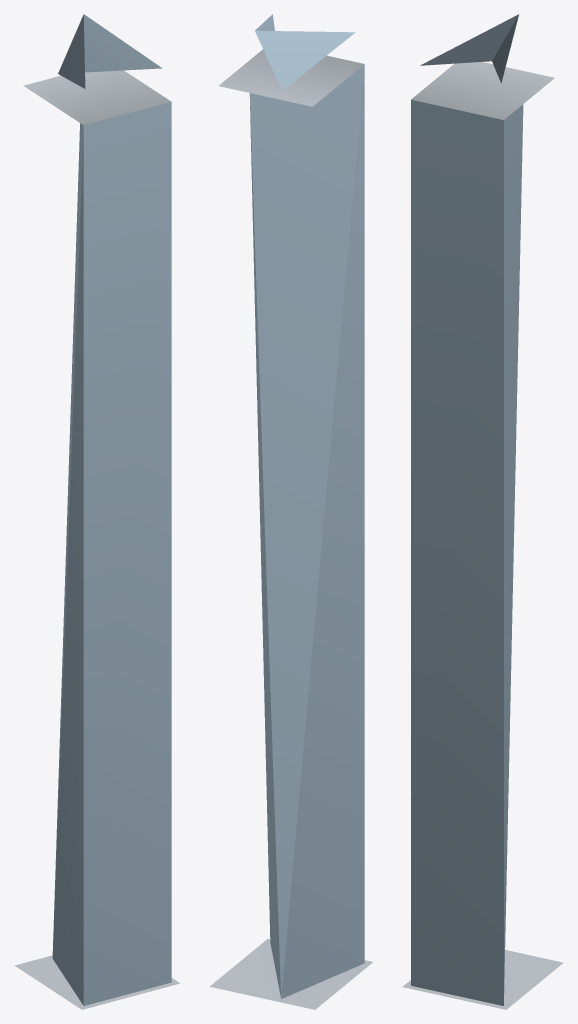
Rendered from tower_03_lod1.glb.
3 renders of one model, left to right at view 1: azimuth 30°, elevation 25°; view 2: azimuth 150°, elevation 25°; view 3: azimuth 330°, elevation 25°, orthographic. The views are drawn at different scales.
Visible parts, largest first — view 1: tower_03_lod1; view 2: tower_03_lod1; view 3: tower_03_lod1.
Part boxes in pixels (x1,y1,x2,y2): tower_03_lod1: [14, 14, 180, 1009]; tower_03_lod1: [210, 14, 372, 1009]; tower_03_lod1: [402, 14, 563, 1009].
Size of the model in its own units: 37.9 by 320 by 40.12.
